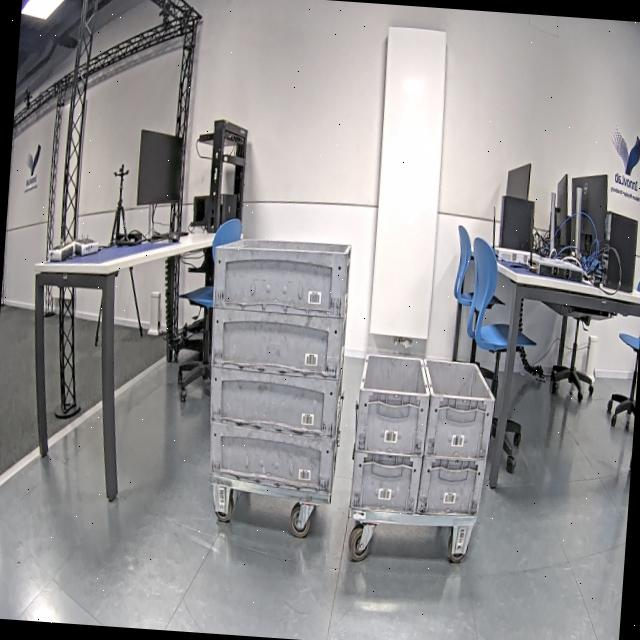Box3G: (212, 233, 351, 317), (208, 301, 347, 379), (206, 366, 342, 436), (206, 422, 338, 492)
Box8G: (356, 354, 429, 454), (423, 361, 494, 458), (348, 449, 422, 514), (417, 456, 485, 515)
